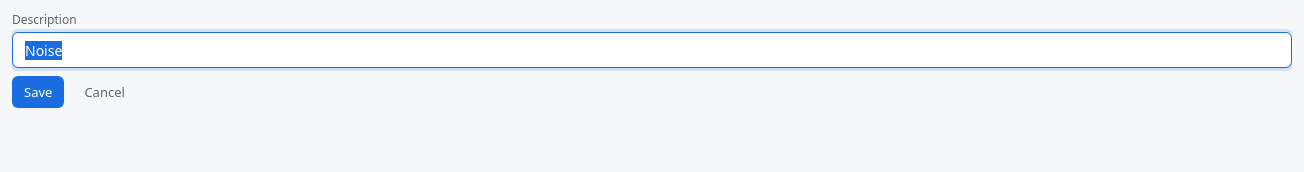
Test: OrderInlineField › rejects an empty value for required fields and shows the message under the control
Clear the field named "Description": (652, 50) [12, 32, 1292, 68]
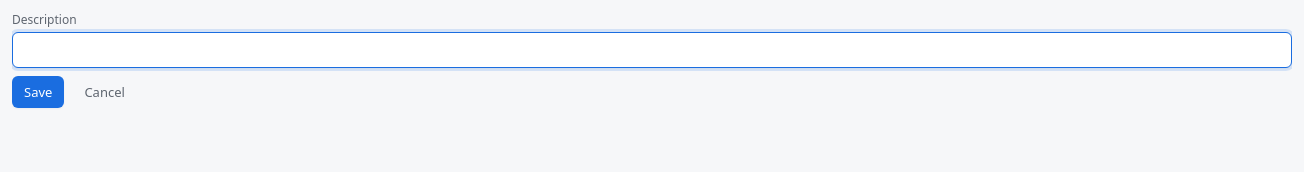
Click the button "Save": (38, 92) [12, 76, 64, 108]
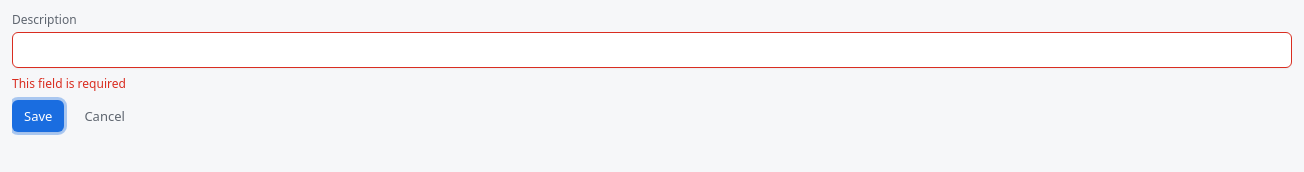
Expected: the message reads "This field is required", [12, 75, 126, 92]
